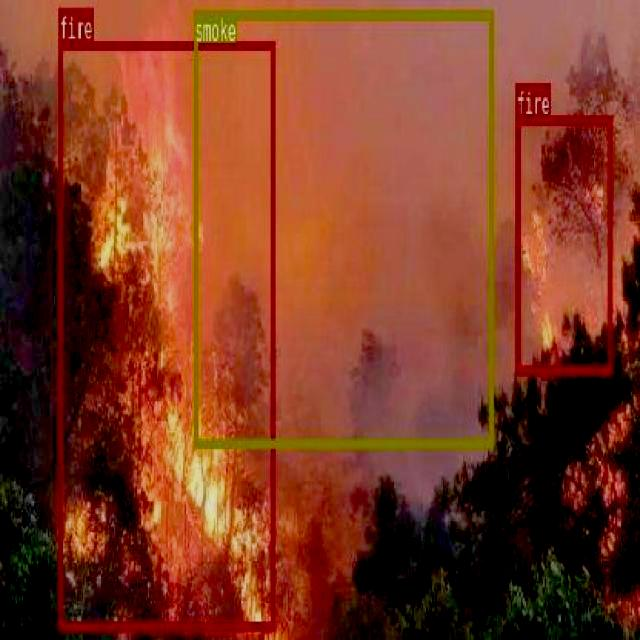fire: (58, 41, 274, 628), (515, 114, 611, 373)
smoke: (193, 8, 493, 447)
